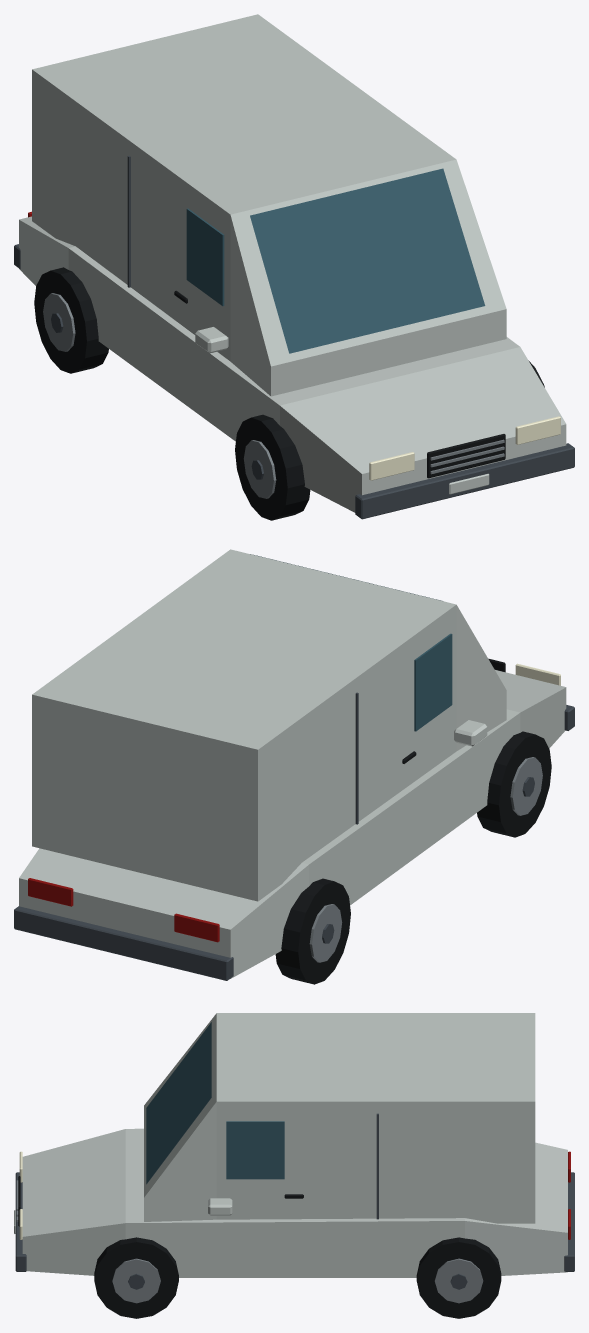
Rendered from ServiceVan.fbx.
The picture shows the model from 3 angles, top to bottom: view 1: azimuth 30°, elevation 25°; view 2: azimuth 150°, elevation 25°; view 3: azimuth 270°, elevation 25°; orthographic projection. The views are drawn at different scales.
Visible parts, largest first — view 1: ServiceVan; view 2: ServiceVan; view 3: ServiceVan.
Part boxes in pixels (<box>): ServiceVan: <box>14,14,574,520</box>; ServiceVan: <box>14,549,574,984</box>; ServiceVan: <box>14,1013,574,1318</box>.
Size of the model in its own units: 214 by 191 by 463.
Materials: 1 (1 with a texture image).
